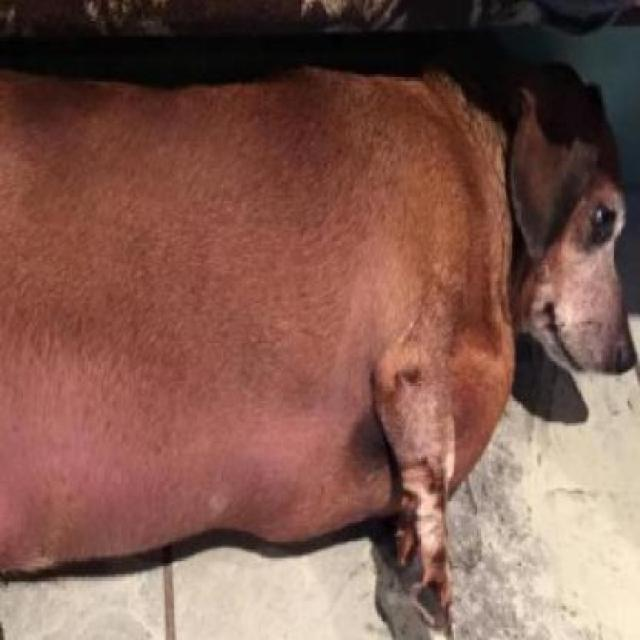Dog: (1, 29, 637, 638)
